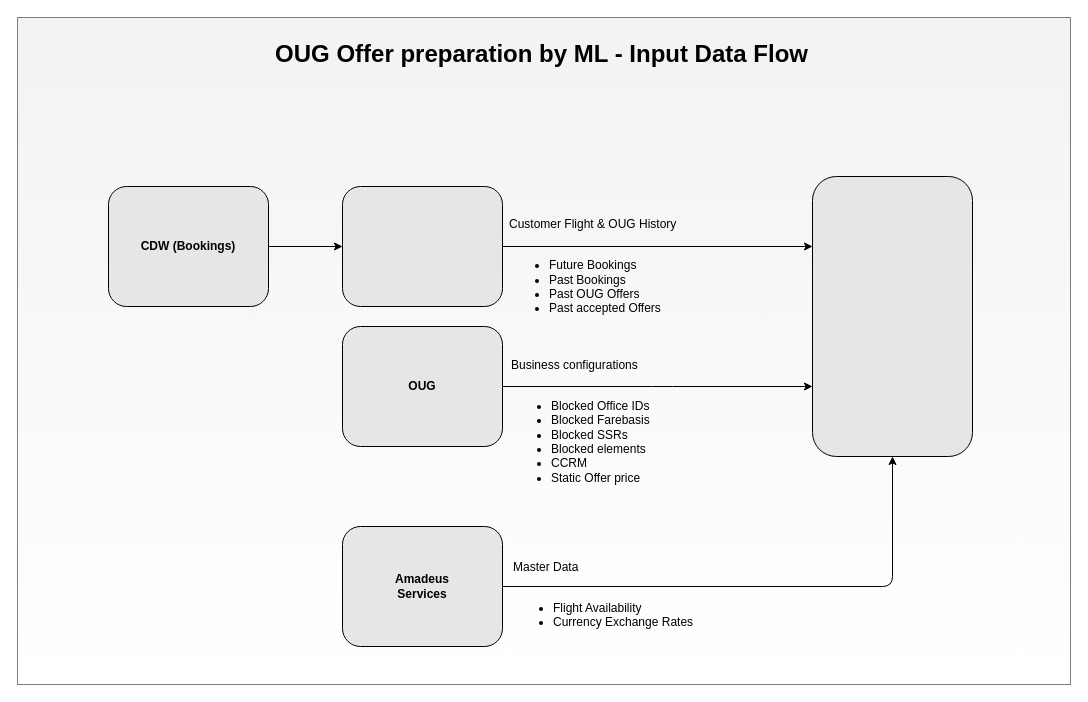
Some shapes in this 1088 by 702 pixel diagram are drawn without their labels. Each missing label, with the box of its shape:
Customer360: (342, 186, 502, 306)
Machine Learning Model: (812, 176, 972, 456)
